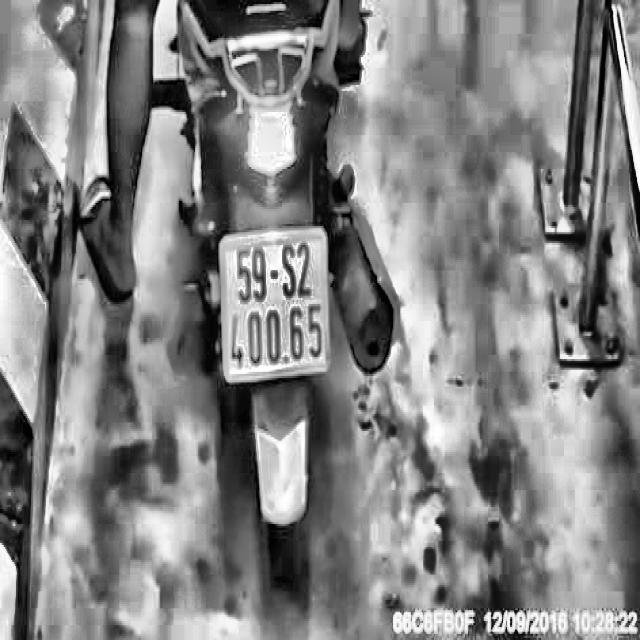plate: (212, 224, 334, 389)
